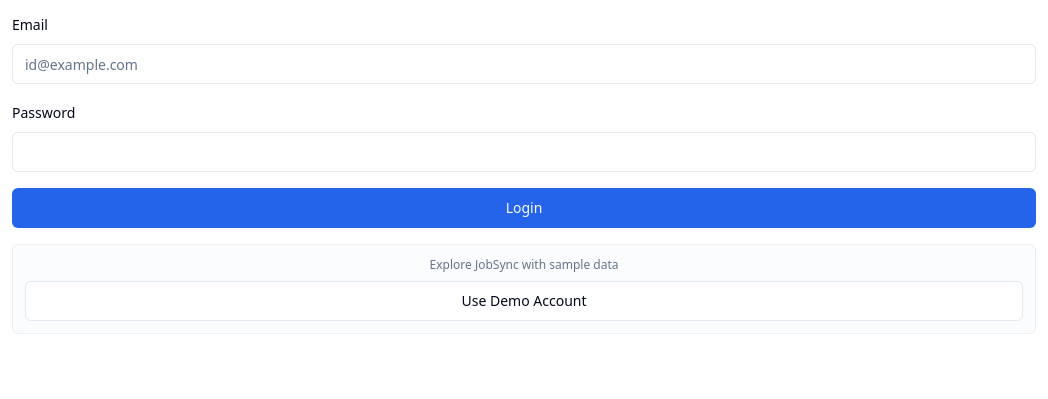
Test case: SigninForm Component › shows an error message on failed submit
Type "test-user@example.test" into the field labelled "Email" at point(524, 64), box [12,44,1036,84]
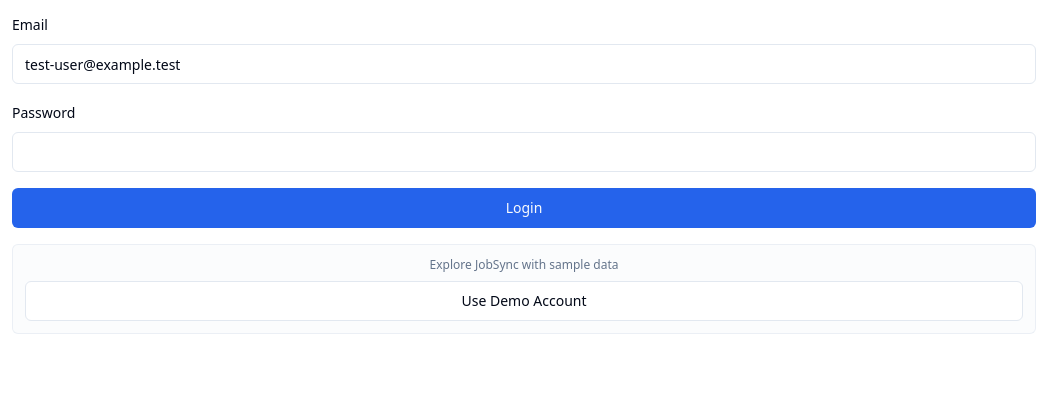
Type "wrongpassword" into the password field labelled "Password" at point(524, 152), box [12,132,1036,172]
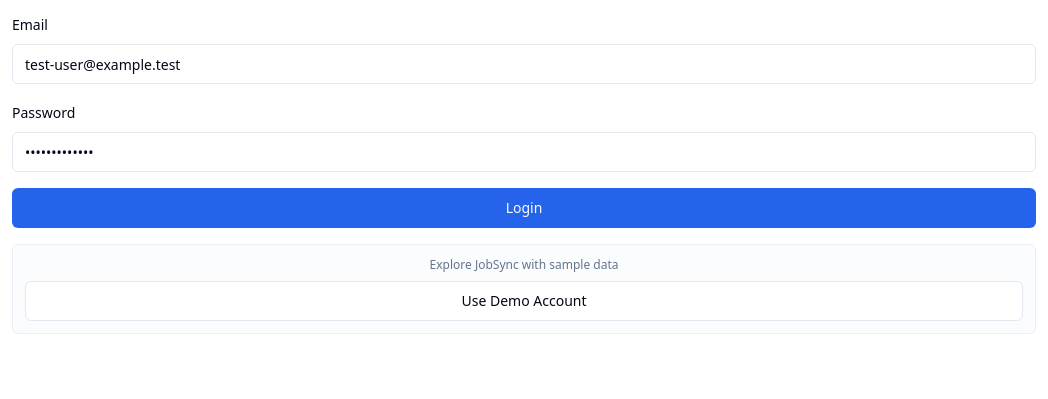
Click the button "Login" at point(524, 208), box [12,188,1036,228]
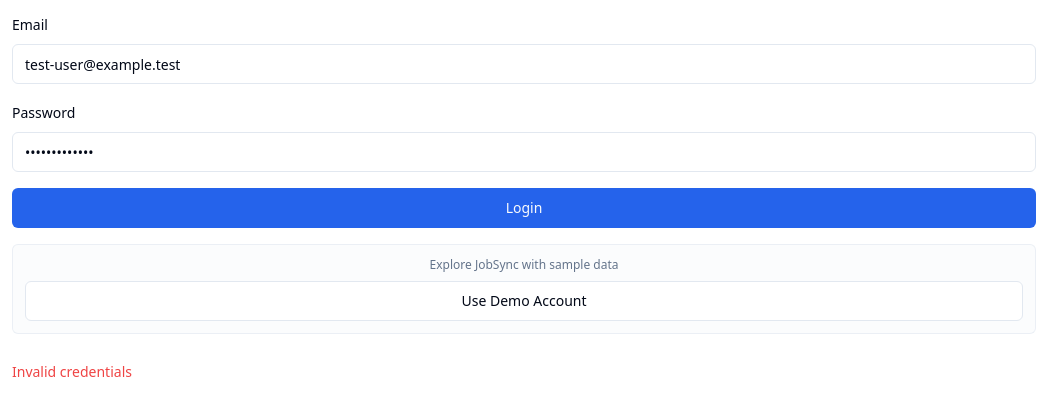
Expected: the text "Invalid credentials" is shown, [12,362,132,382]
